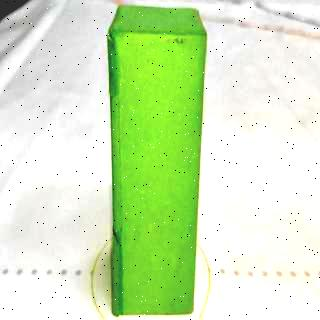greenbox: (106, 2, 210, 316)
